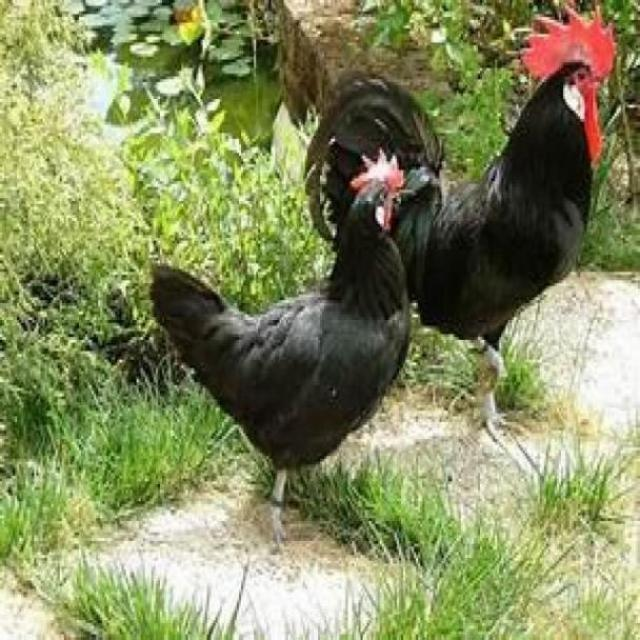Chicken: (303, 6, 616, 442), (147, 147, 412, 541)
